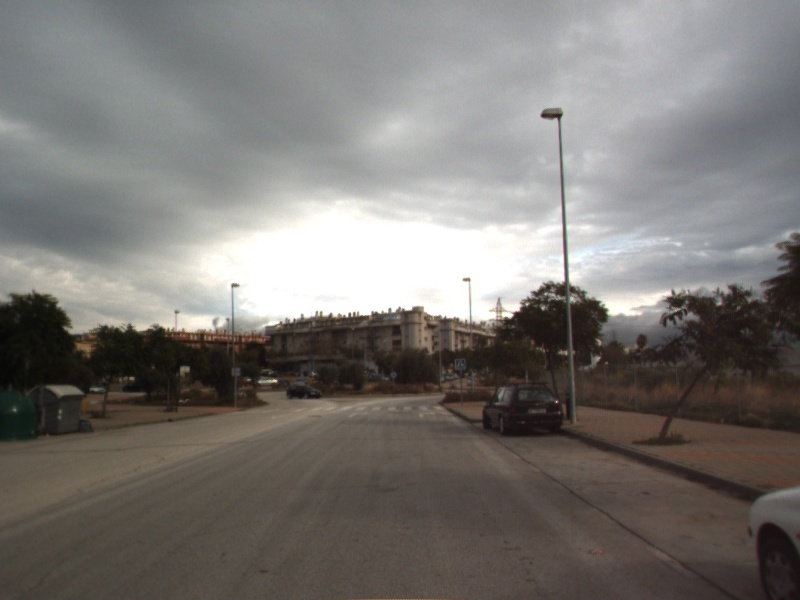RIGHT: (346, 409, 371, 419), (417, 410, 438, 420)
